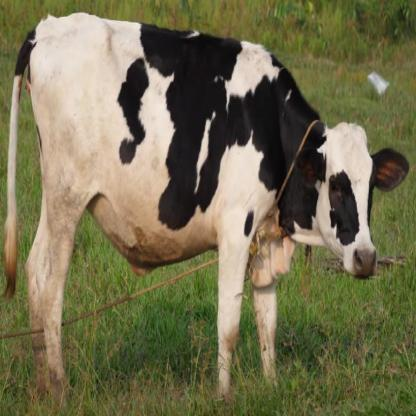cow: (30, 18, 408, 404)
